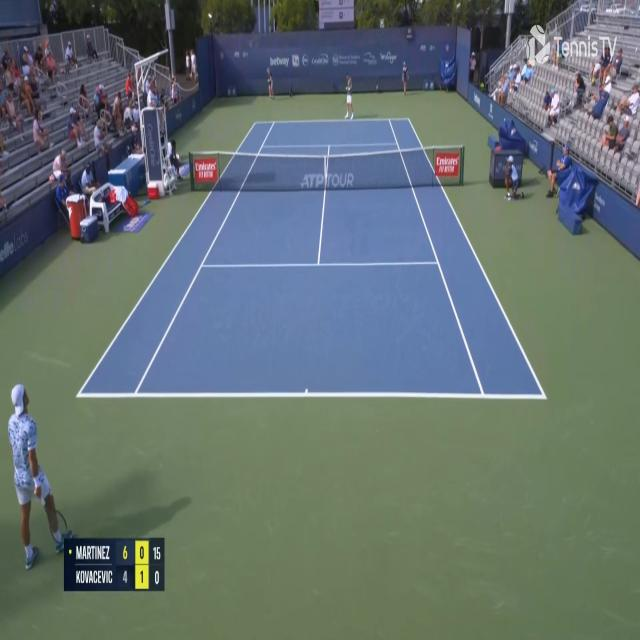tennis-player: (6, 378, 74, 572), (343, 72, 355, 122)
